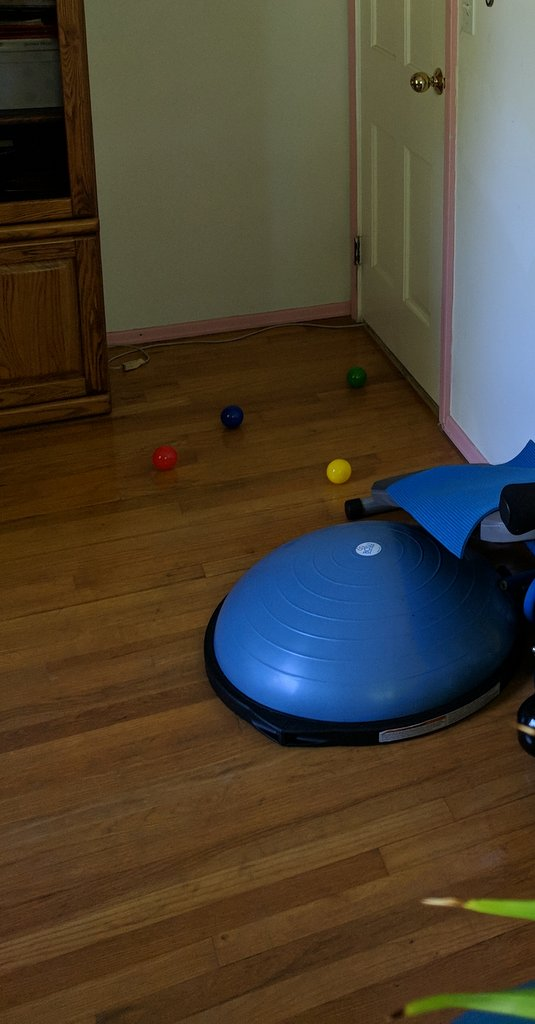ball: (344, 363, 367, 391)
